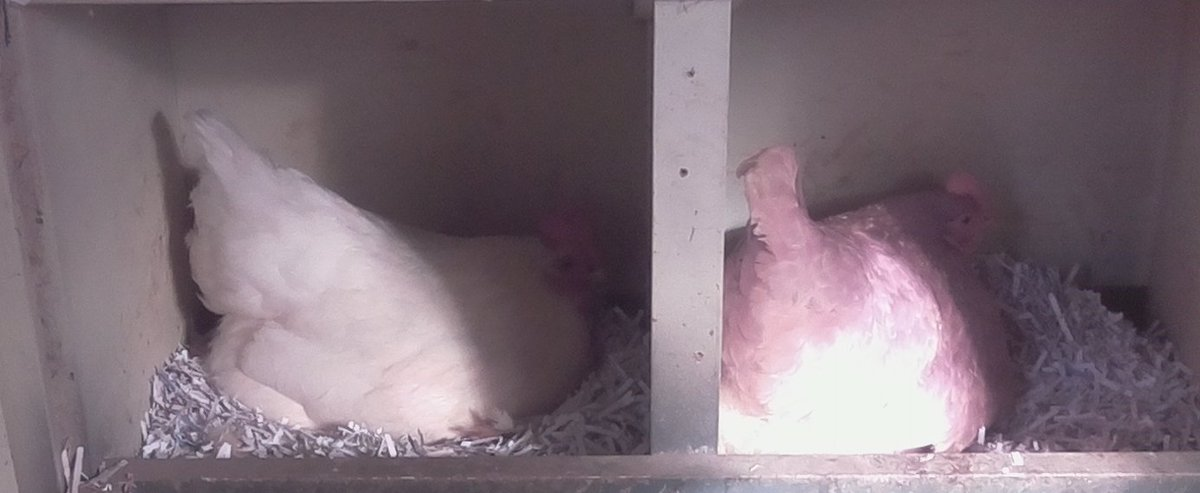hen: (169, 151, 619, 446), (715, 164, 1024, 458)
